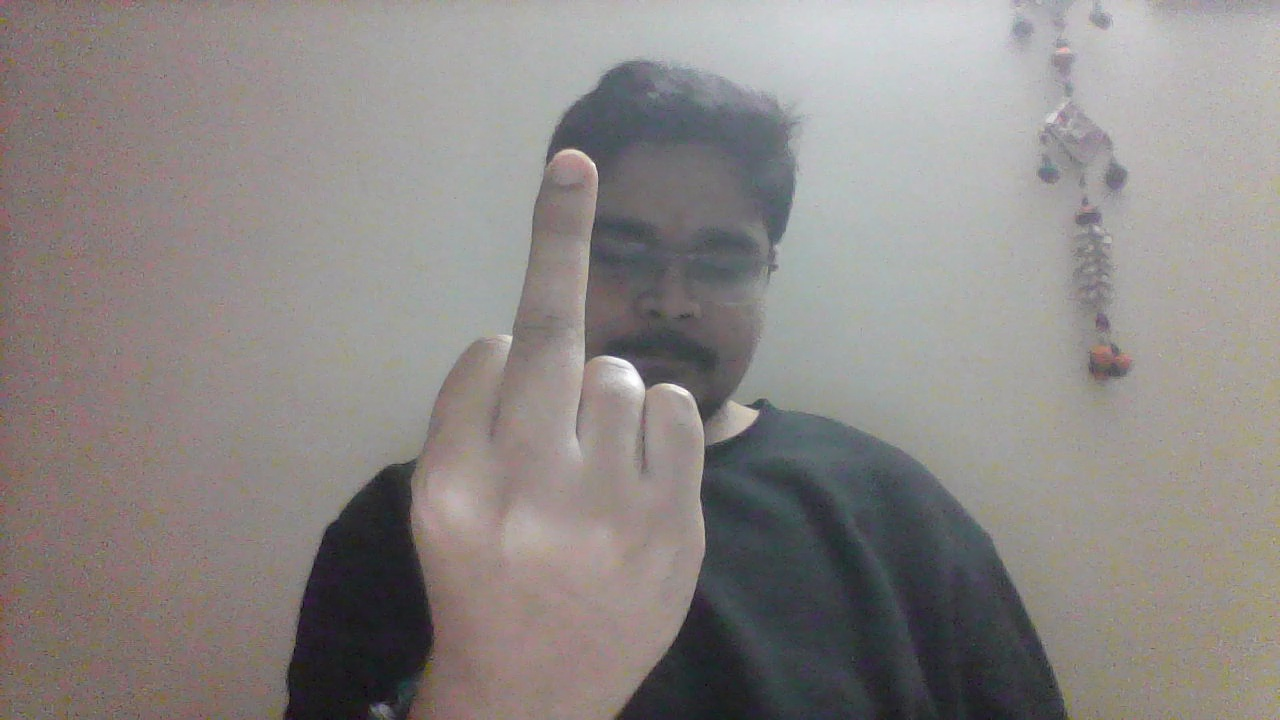Fuck Off: (407, 144, 707, 706)
